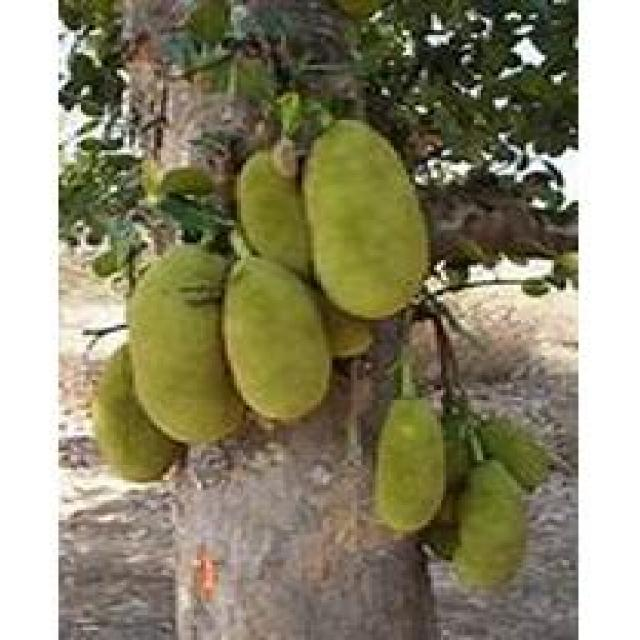Fruit: (277, 98, 452, 348), (197, 192, 357, 458)
